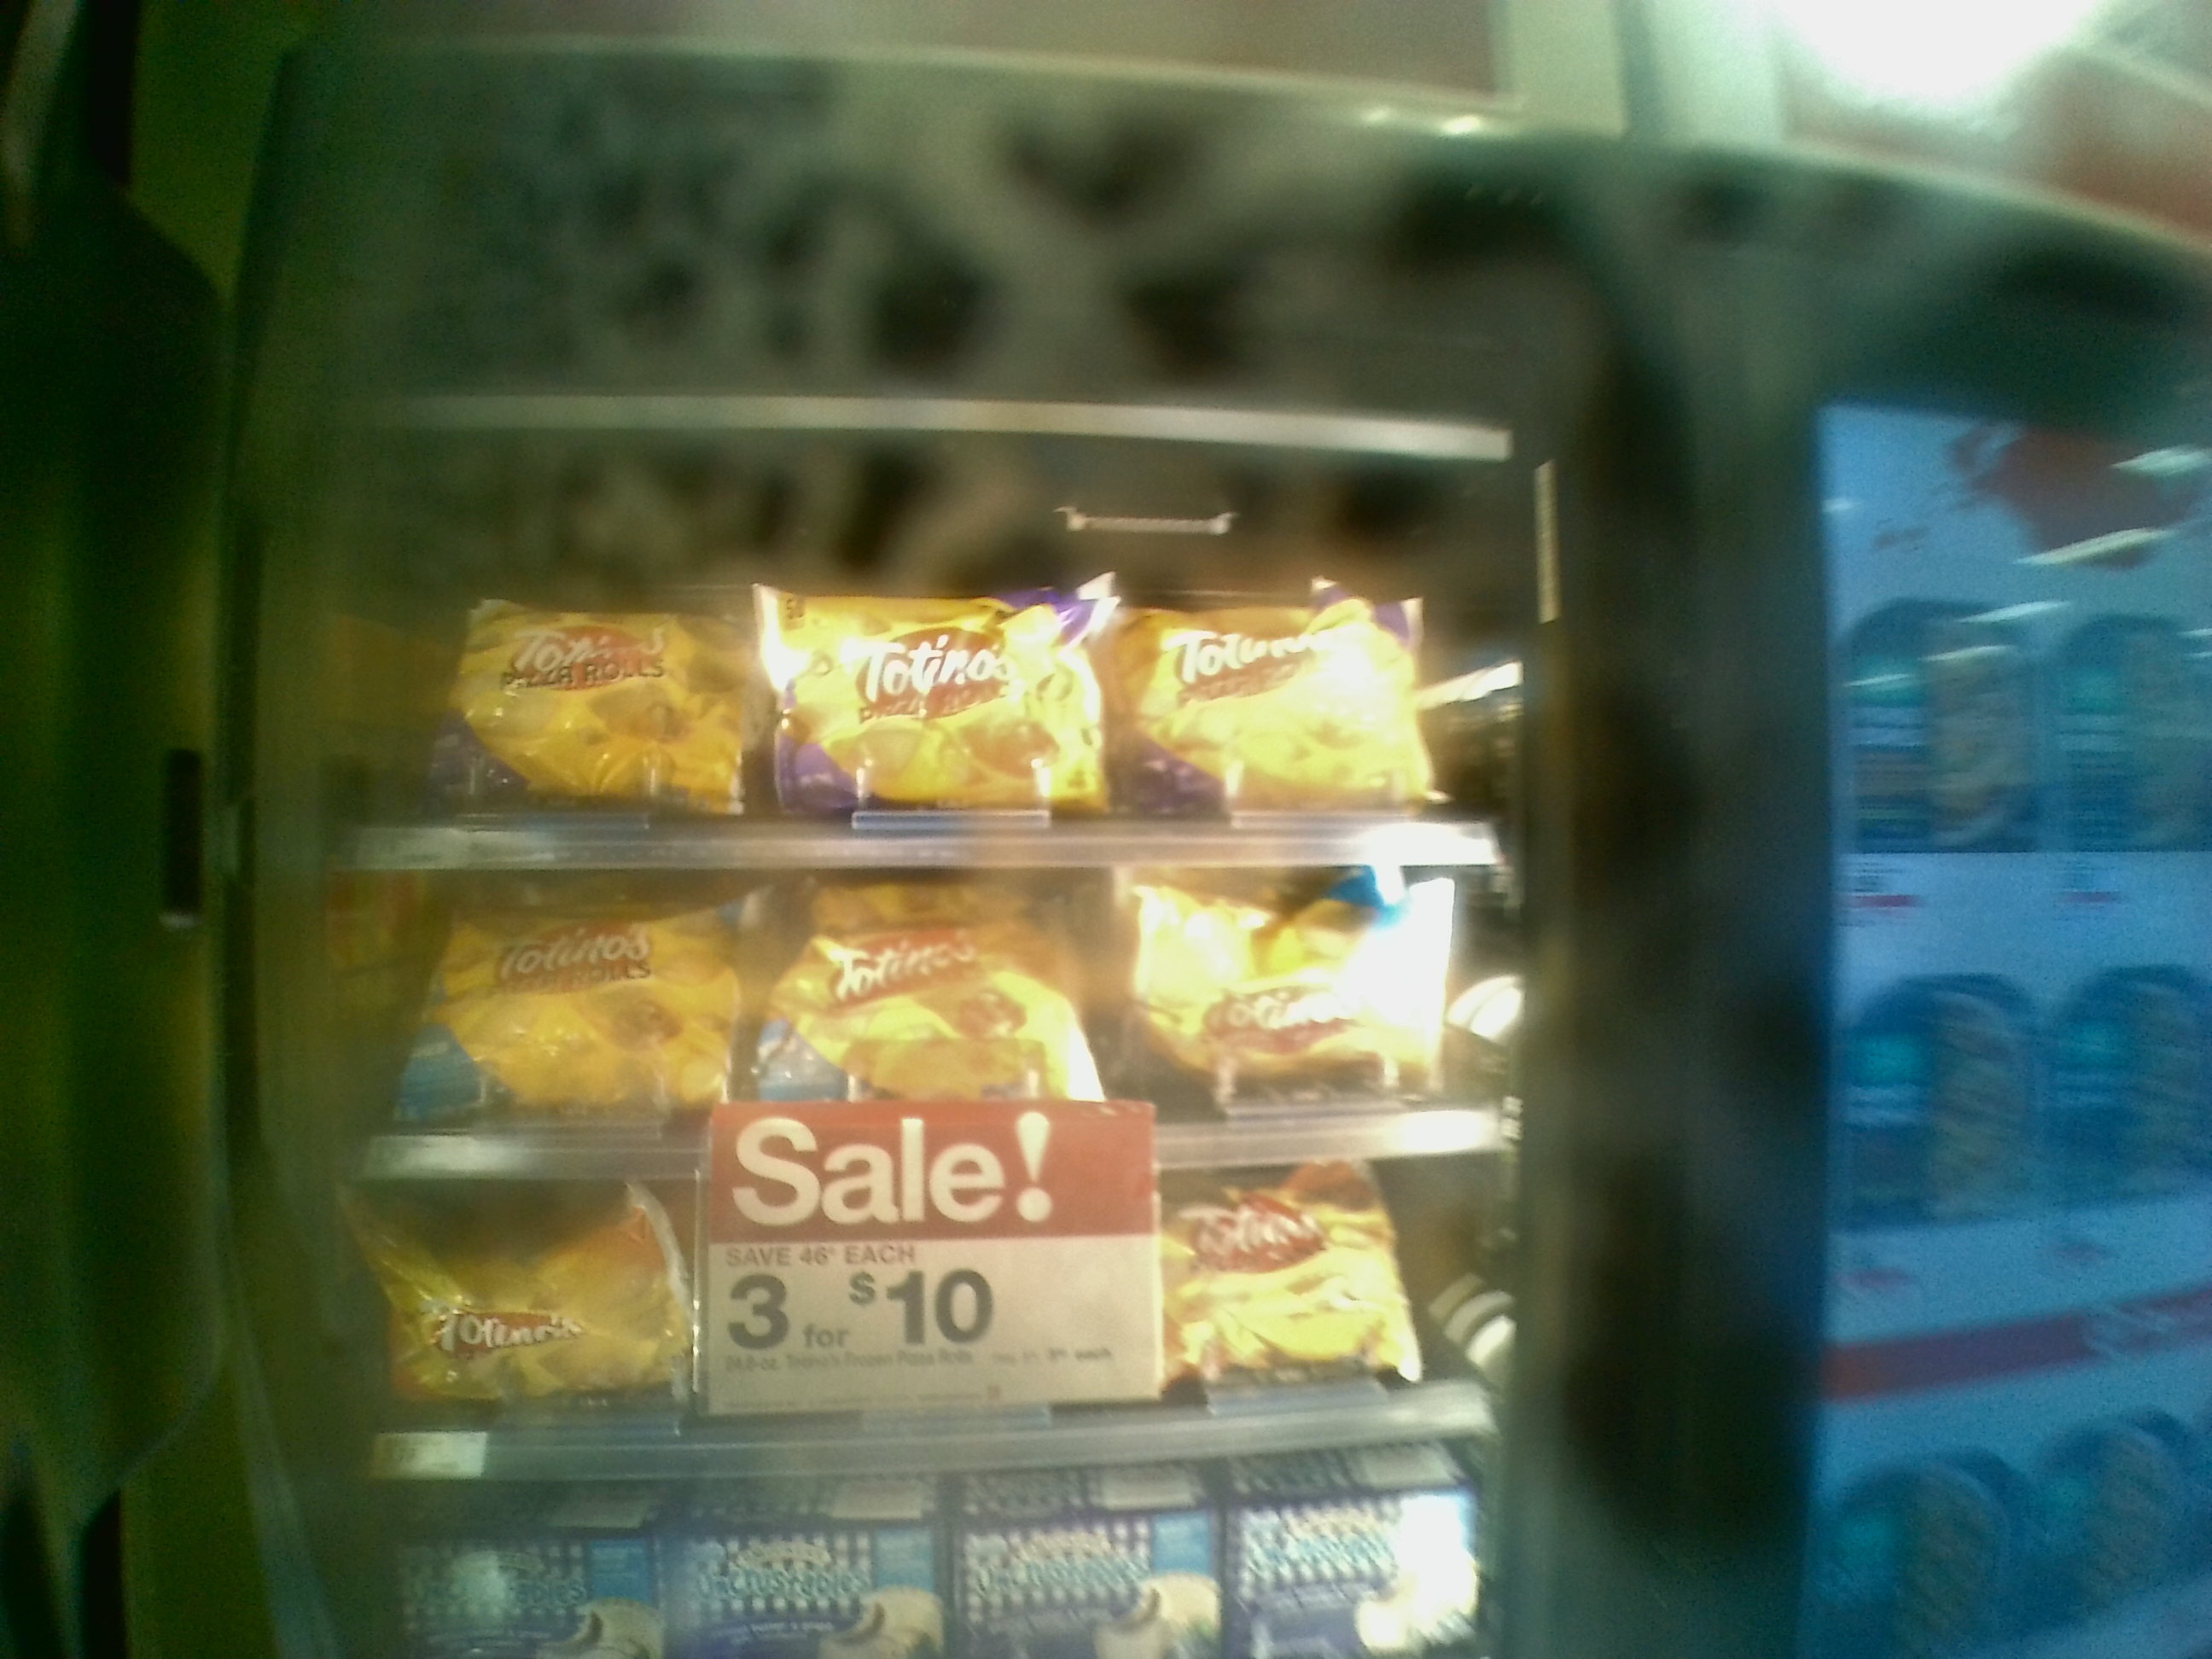shelf: (338, 491, 1508, 845), (338, 843, 1503, 1154), (334, 1154, 1503, 1432)
